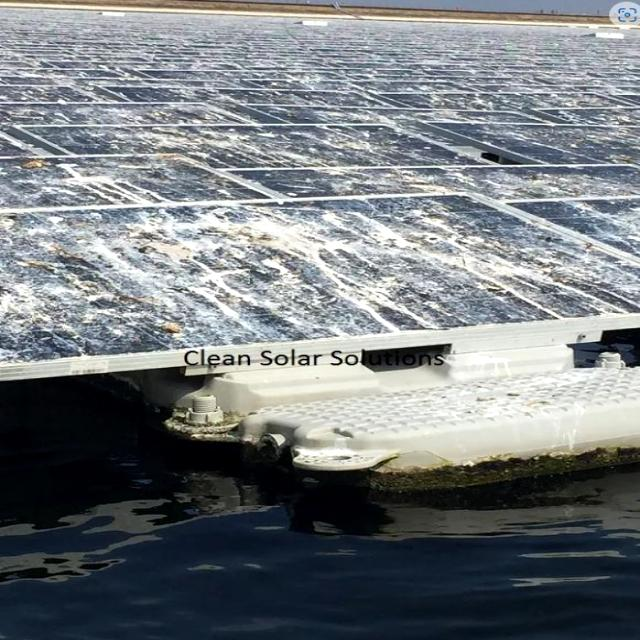bird: (169, 208, 315, 308), (15, 217, 140, 304), (356, 220, 464, 268)
